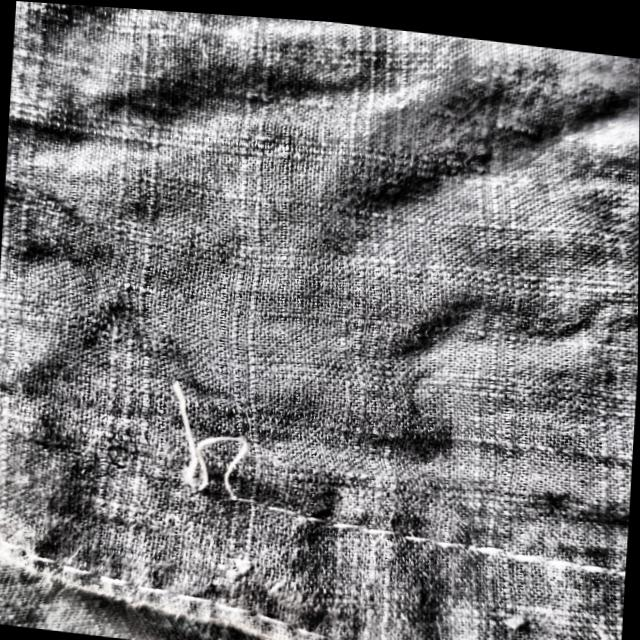Stitch: (137, 314, 330, 545)
